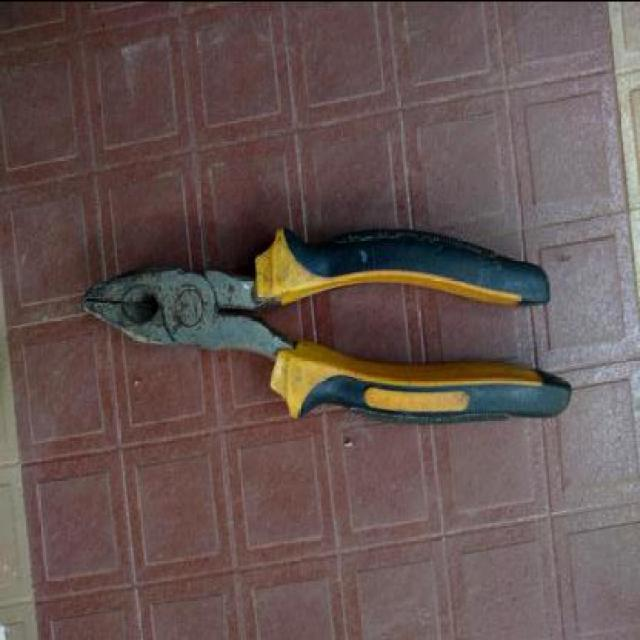pliers: (93, 224, 581, 424)
